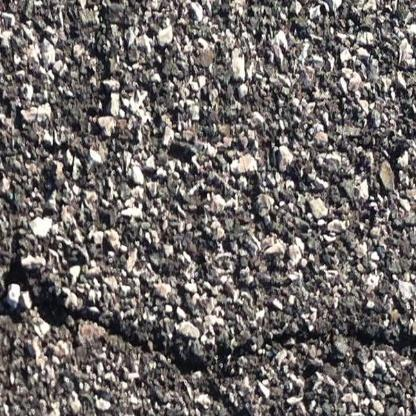Cracks: (0, 241, 331, 377), (343, 321, 416, 361)
